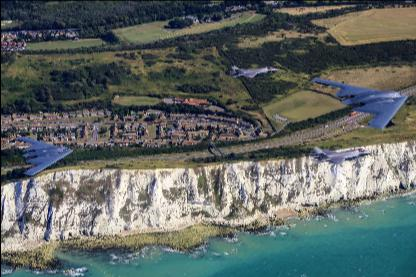B1: (310, 77, 408, 129), (15, 135, 73, 175)
F22: (310, 146, 372, 164), (230, 65, 278, 76)
